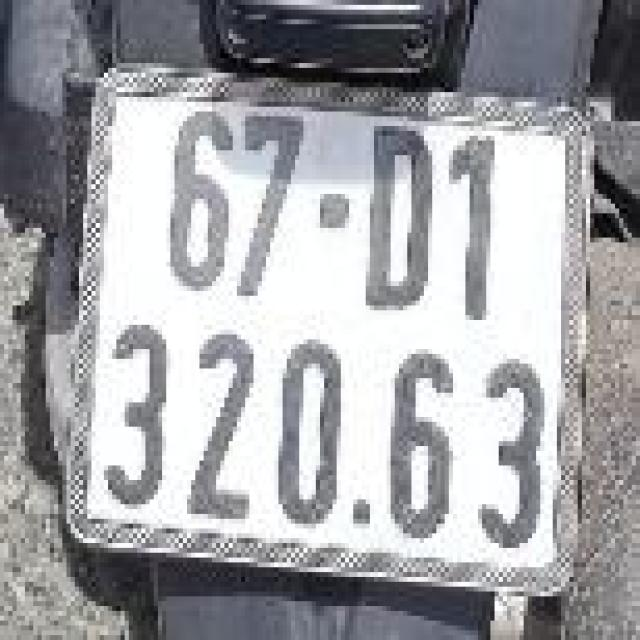0: (270, 334, 345, 528)
1: (442, 114, 497, 342)
2: (181, 320, 251, 533)
3: (469, 346, 548, 570), (96, 310, 174, 514)
6: (145, 102, 237, 315), (378, 337, 461, 550)
7: (237, 107, 312, 315)
D: (356, 109, 438, 318)
